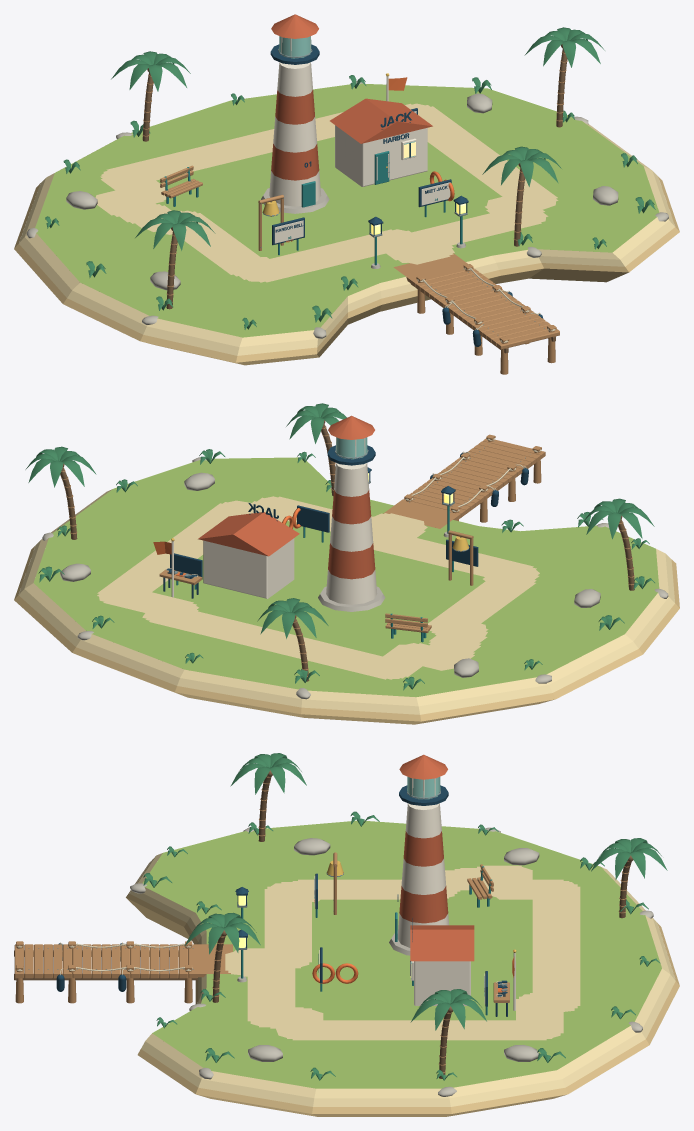
File: harbor.glb
3 views of the same model, one above another, from view 1: azimuth 30°, elevation 25°; view 2: azimuth 150°, elevation 25°; view 3: azimuth 270°, elevation 25° (orthographic). The views are drawn at different scales.
Parts seen in each view (by area): view 1: static_grass, static_v5_sand, static_v5_dock_wood, static_v5_wetsand, static_ivory, static_v5_stone, occluder_harbor_roof_terracotta, static_terracotta, static_v5_foliage, occluder_harbor_tree_4_v5_foliage, occluder_harbor_tree_8_v5_foliage, occluder_harbor_tree_16_v5_foliage (+5 smaller); view 2: static_grass, static_v5_sand, static_v5_dock_wood, static_ivory, static_v5_wetsand, static_v5_stone, occluder_harbor_roof_terracotta, static_terracotta, static_v5_foliage, occluder_harbor_tree_4_v5_foliage, occluder_harbor_tree_8_v5_foliage, occluder_harbor_tree_12_v5_foliage (+6 smaller); view 3: static_grass, static_v5_sand, static_v5_dock_wood, static_v5_wetsand, static_ivory, static_v5_stone, static_terracotta, occluder_harbor_roof_terracotta, static_v5_foliage, occluder_harbor_tree_12_v5_foliage, occluder_harbor_tree_16_v5_foliage, occluder_harbor_tree_4_v5_foliage (+6 smaller).
Part boxes in pixels (x1,y1,x2,y2): static_grass: [35, 83, 659, 337]; static_v5_sand: [19, 103, 674, 355]; static_v5_dock_wood: [160, 165, 559, 374]; static_v5_wetsand: [14, 176, 679, 365]; static_ivory: [269, 62, 427, 206]; static_v5_stone: [26, 81, 668, 338]; occluder_harbor_roof_terracotta: [330, 98, 432, 143]; static_terracotta: [271, 90, 319, 180]; static_v5_foliage: [45, 75, 655, 329]; occluder_harbor_tree_4_v5_foliage: [135, 210, 215, 250]; occluder_harbor_tree_8_v5_foliage: [111, 51, 190, 91]; occluder_harbor_tree_16_v5_foliage: [482, 146, 561, 186]; static_grass: [33, 457, 659, 697]; static_v5_sand: [19, 489, 674, 714]; static_v5_dock_wood: [159, 434, 545, 632]; static_ivory: [171, 463, 377, 604]; static_v5_wetsand: [14, 546, 679, 724]; static_v5_stone: [42, 457, 668, 699]; occluder_harbor_roof_terracotta: [198, 512, 299, 556]; static_terracotta: [328, 490, 375, 579]; static_v5_foliage: [38, 449, 654, 690]; occluder_harbor_tree_4_v5_foliage: [582, 498, 654, 539]; occluder_harbor_tree_8_v5_foliage: [257, 598, 328, 638]; occluder_harbor_tree_12_v5_foliage: [25, 446, 96, 487]; static_grass: [142, 820, 661, 1088]; static_v5_sand: [129, 853, 675, 1106]; static_v5_dock_wood: [14, 852, 509, 1003]; static_v5_wetsand: [126, 861, 679, 1116]; static_ivory: [397, 803, 515, 1010]; static_v5_stone: [130, 827, 653, 1096]; static_terracotta: [399, 831, 448, 923]; occluder_harbor_roof_terracotta: [410, 925, 474, 961]; static_v5_foliage: [143, 811, 660, 1080]; occluder_harbor_tree_12_v5_foliage: [410, 989, 486, 1030]; occluder_harbor_tree_16_v5_foliage: [184, 912, 260, 954]; occluder_harbor_tree_4_v5_foliage: [230, 753, 306, 794].
Size of the model in its own units: 29.21 by 10.37 by 28.6.
